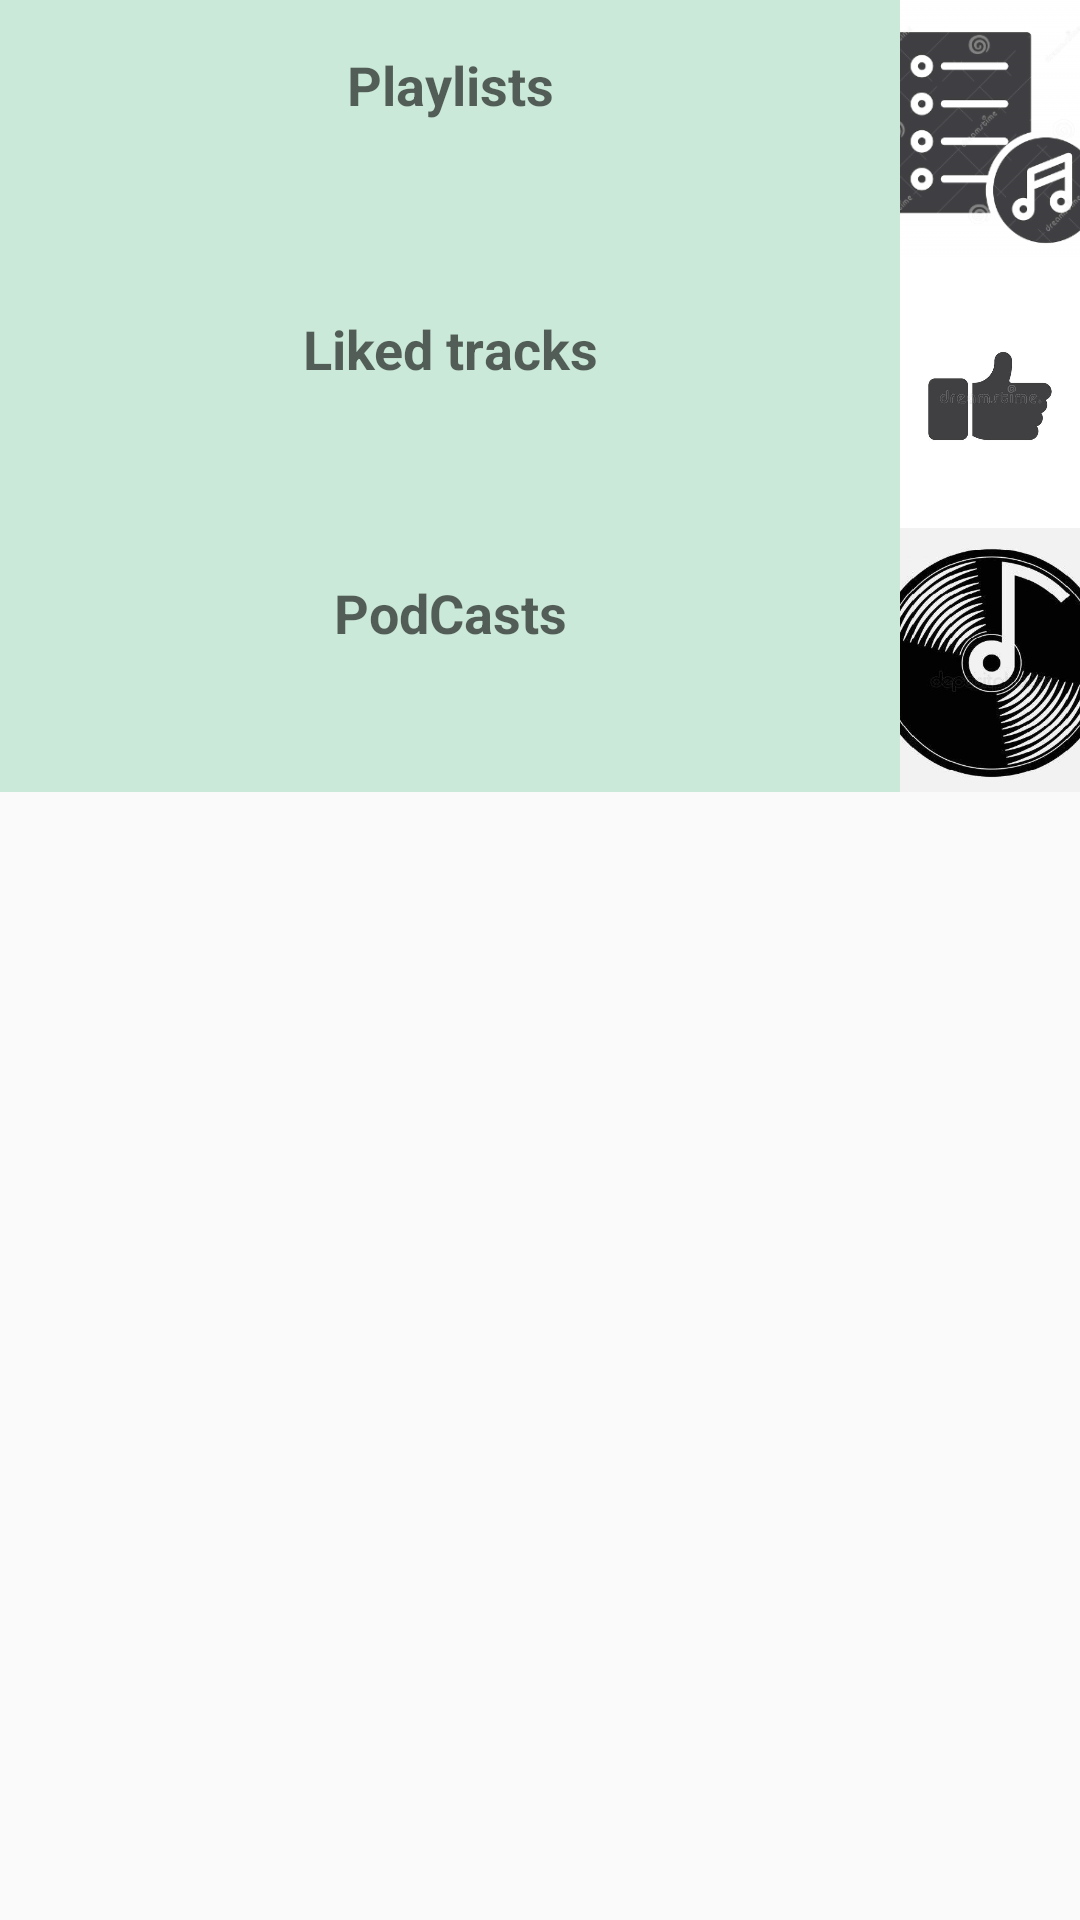

Point at icon controls on the screen. Image size 1080x1920, points as point (x, y).
album: point (990, 660)
